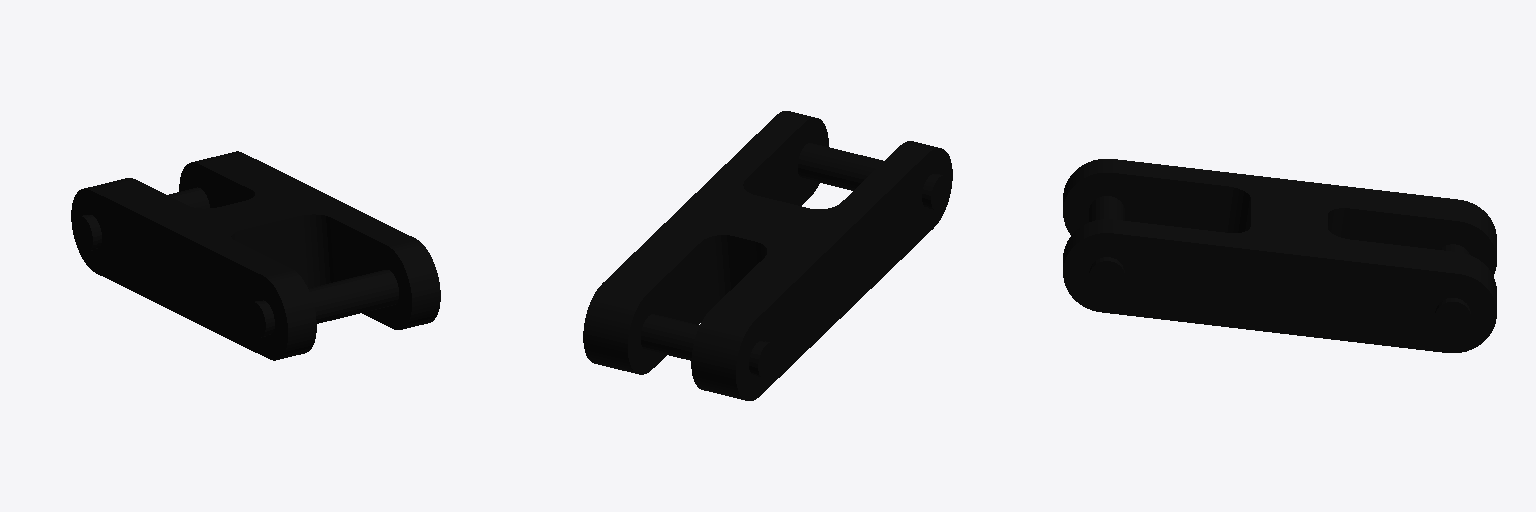
The model's file is robotiq_arg2f_85_outer_finger.obj.
3 views of the same model, side by side, from view 1: azimuth 30°, elevation 25°; view 2: azimuth 150°, elevation 25°; view 3: azimuth 270°, elevation 25° (orthographic).
Visible parts, largest first — view 1: robotiq_arg2f_85_outer_finger; view 2: robotiq_arg2f_85_outer_finger; view 3: robotiq_arg2f_85_outer_finger.
Boxes of the visible parts, box(x1,y1,x2,y2) form: robotiq_arg2f_85_outer_finger: box(71, 151, 440, 360); robotiq_arg2f_85_outer_finger: box(583, 111, 952, 400); robotiq_arg2f_85_outer_finger: box(1063, 159, 1496, 352).
Bounding box in the file's own units: 27 × 18.11 × 59.12.